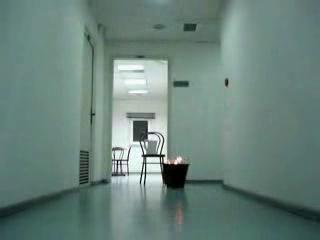fire: (168, 156, 184, 165)
